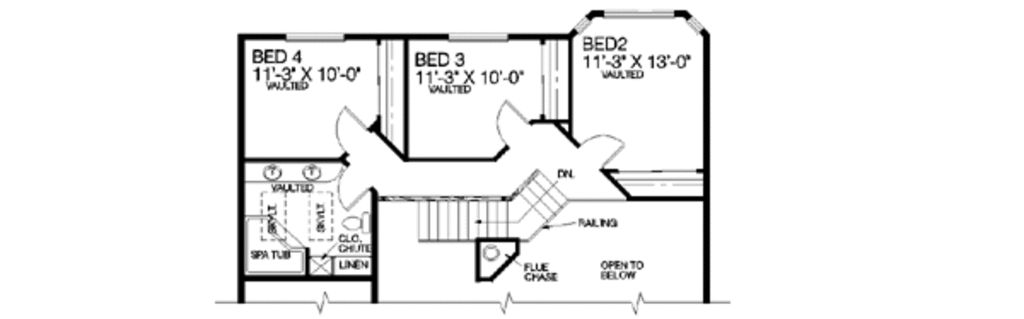door: (330, 101, 371, 154), (575, 127, 620, 170), (494, 99, 531, 147), (336, 171, 370, 211)
large_sink: (336, 213, 373, 236)
small_sink: (242, 155, 335, 183)
stairs: (412, 169, 576, 247)
window: (568, 5, 717, 31), (279, 28, 350, 45), (448, 28, 513, 44)
